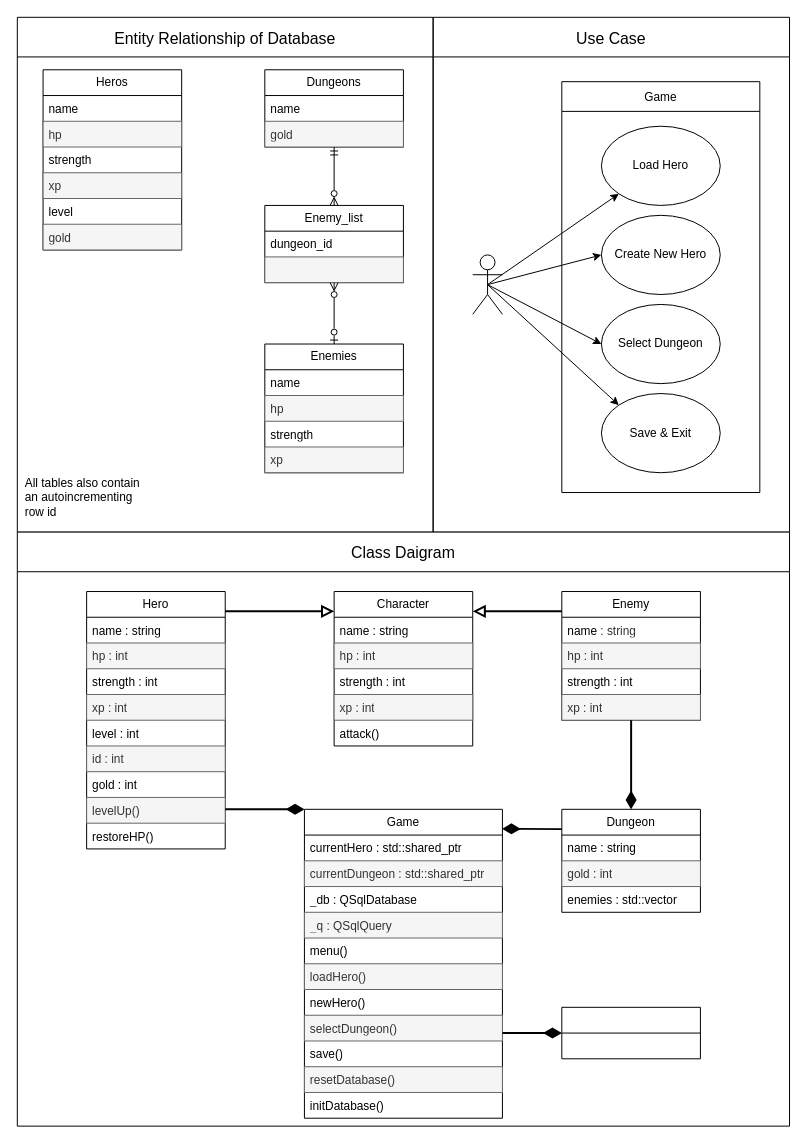
This 807x1143 diagram has some shape labels left out. Each missing label, with the centre of its shape:
"enemy_id" goes at [333,269].
"main" goes at [630,1032].
"Player" goes at [487,284].
